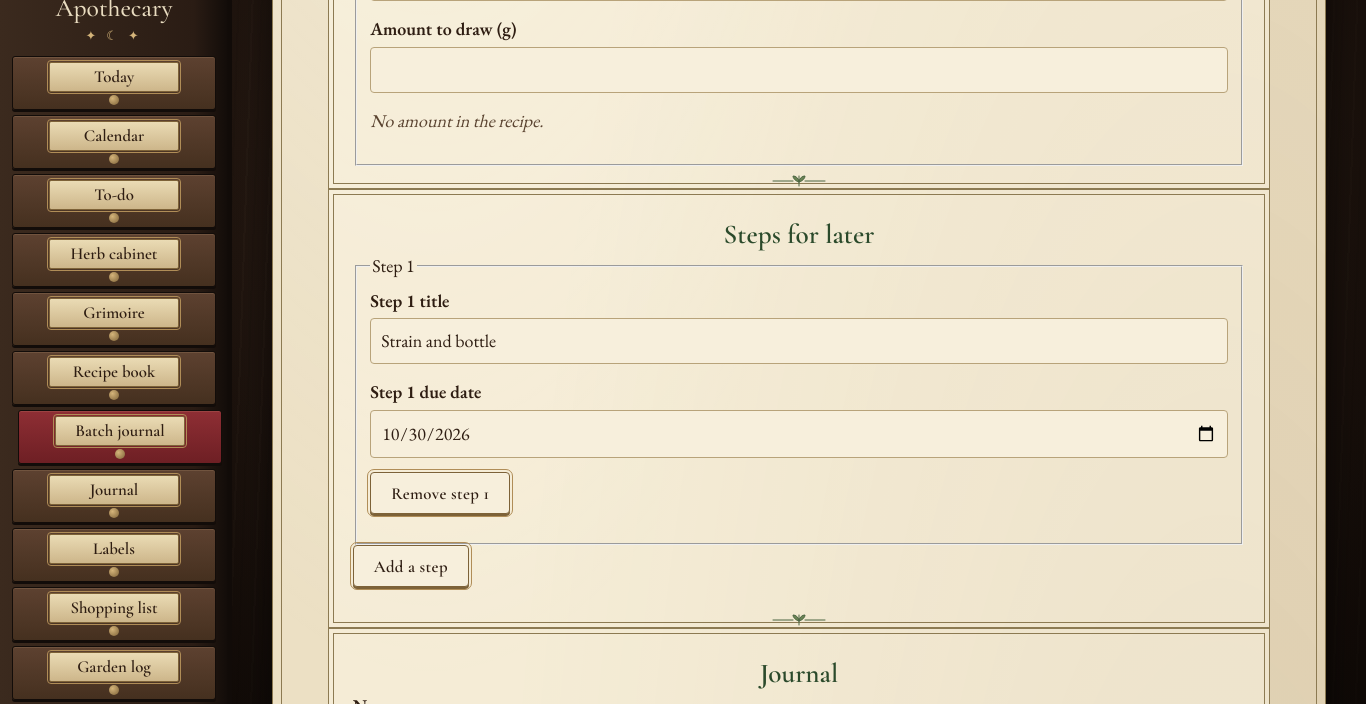
Test case: edits, adds and removes steps
(page scrolled)
Replace the text in the field labelled "Step 1 title" with "Strain it" at [799, 341], box [370,318,1228,364]
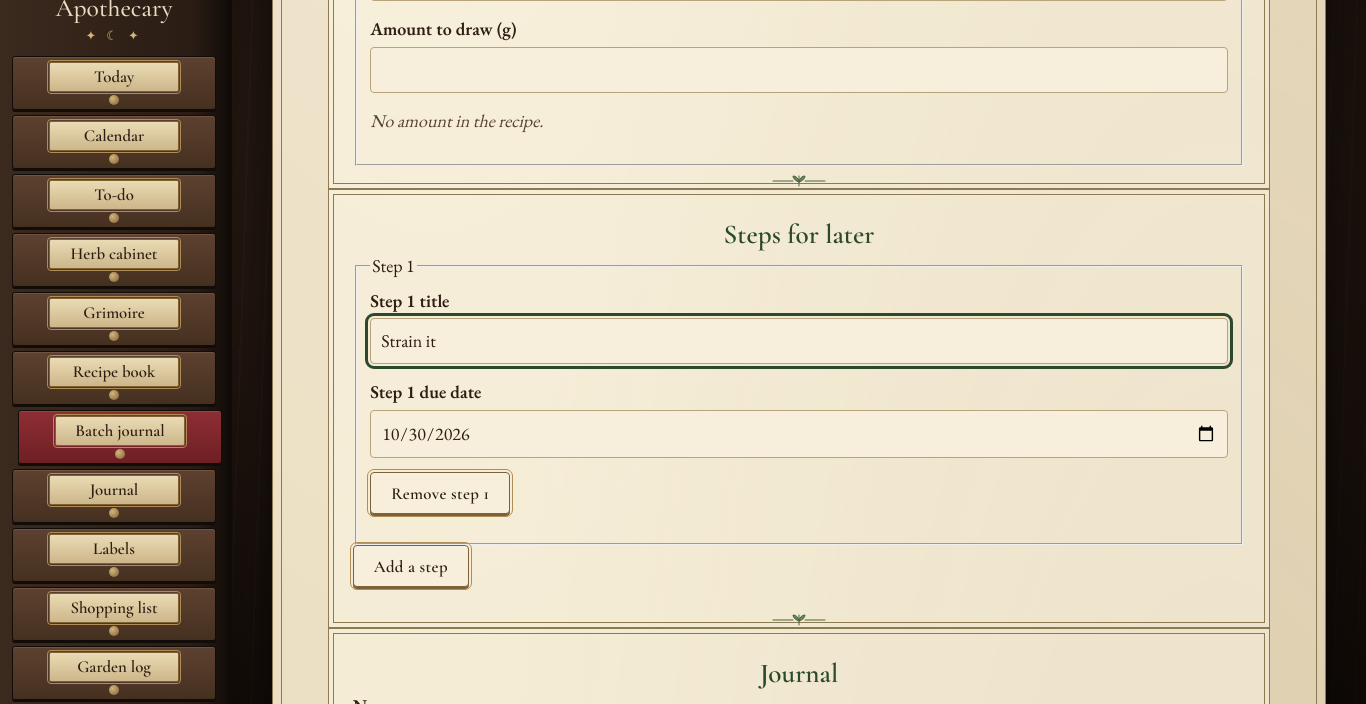
Click the button "Add a step".
click(411, 566)  # box [353,545,469,587]
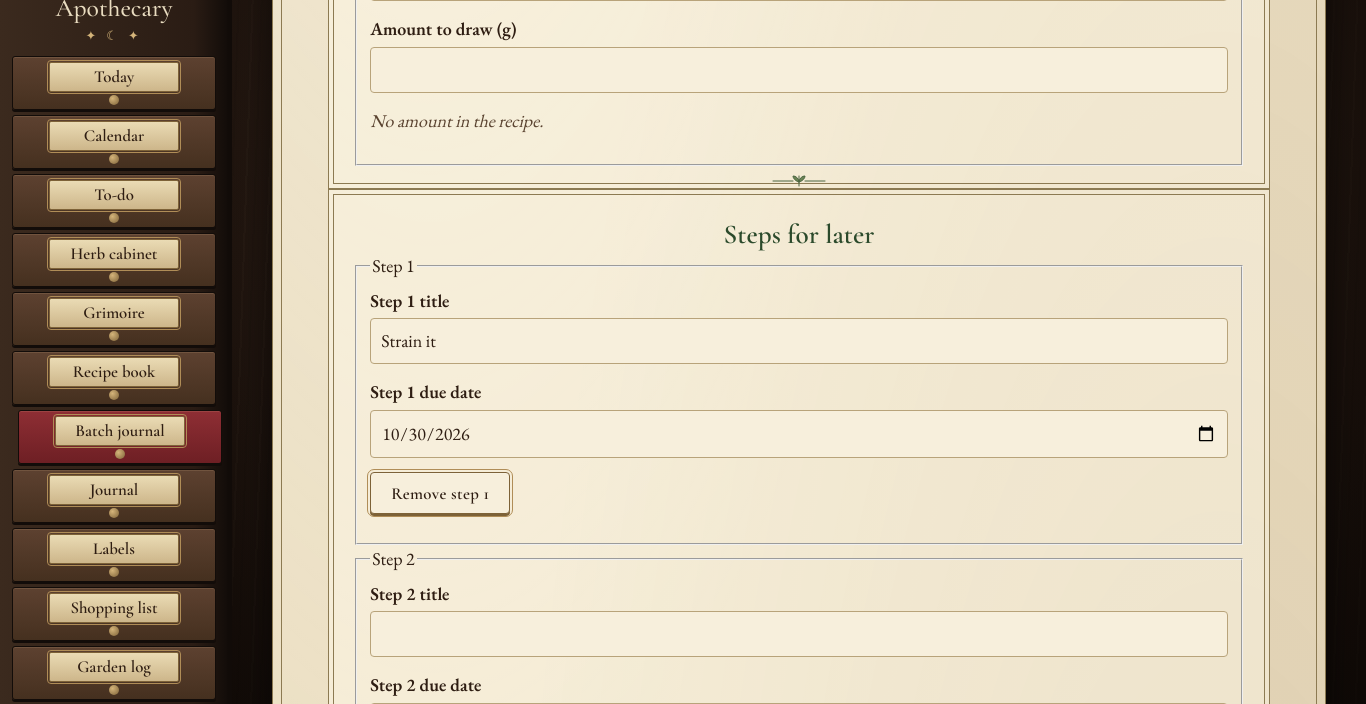
Type "Label it" into the field labelled "Step 2 title".
click(799, 634); type("Label it")  # box [370,611,1228,657]
(page scrolled)
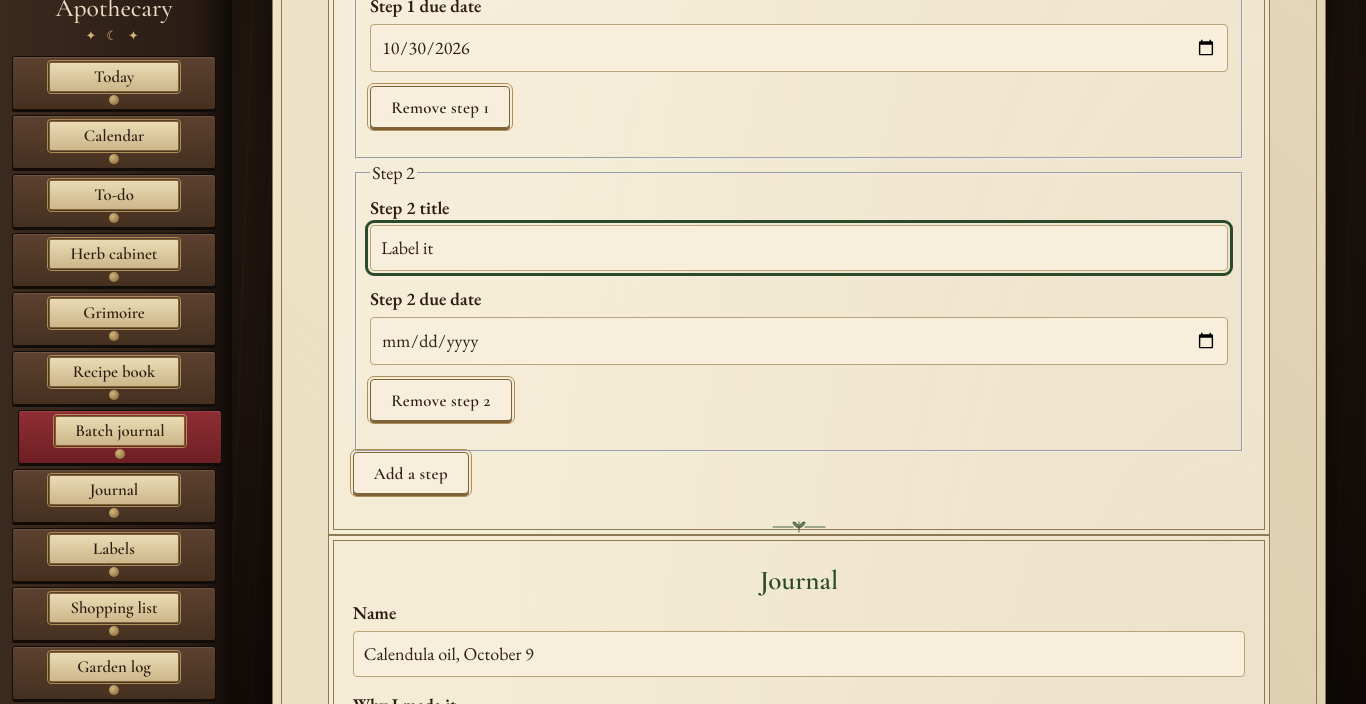
Type "2026-11-05" into the date field labelled "Step 2 due date".
click(799, 341); type("2026-11-05")  # box [370,317,1228,365]
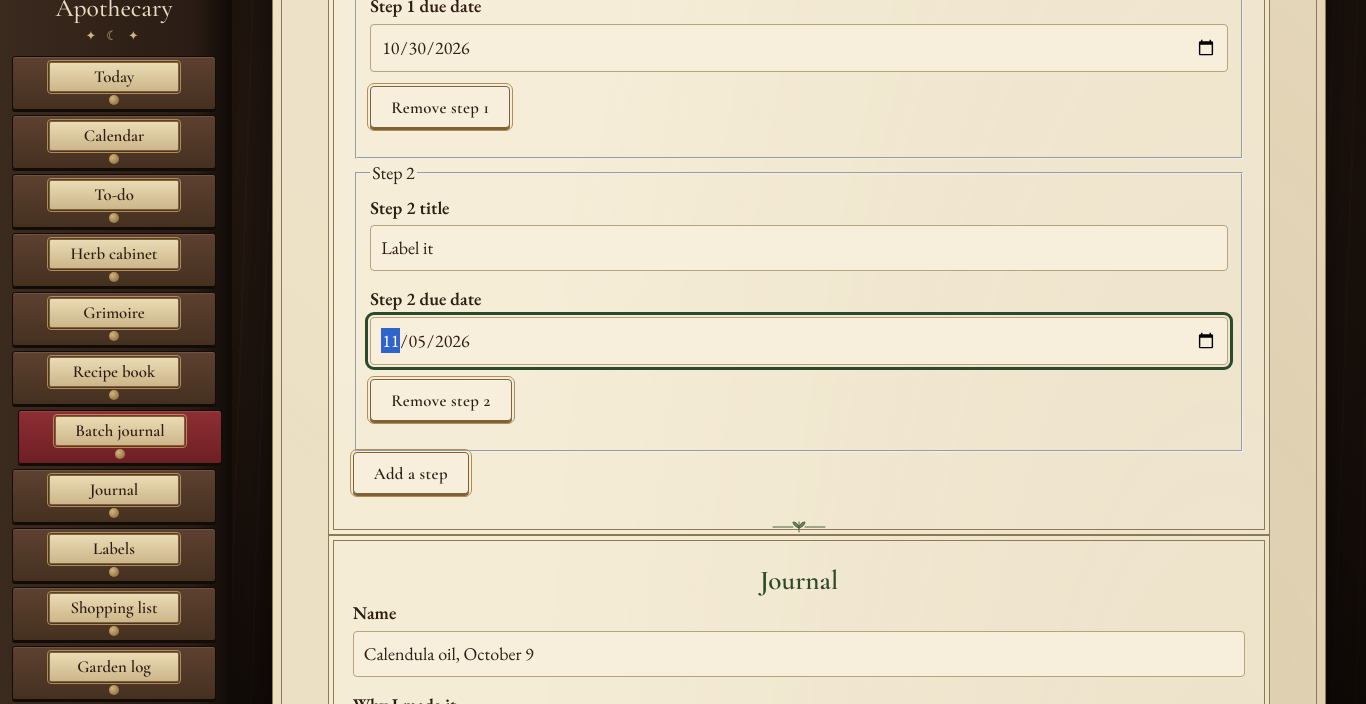
Click the button "Remove step 1".
click(440, 107)  # box [370,86,510,128]
(page scrolled)
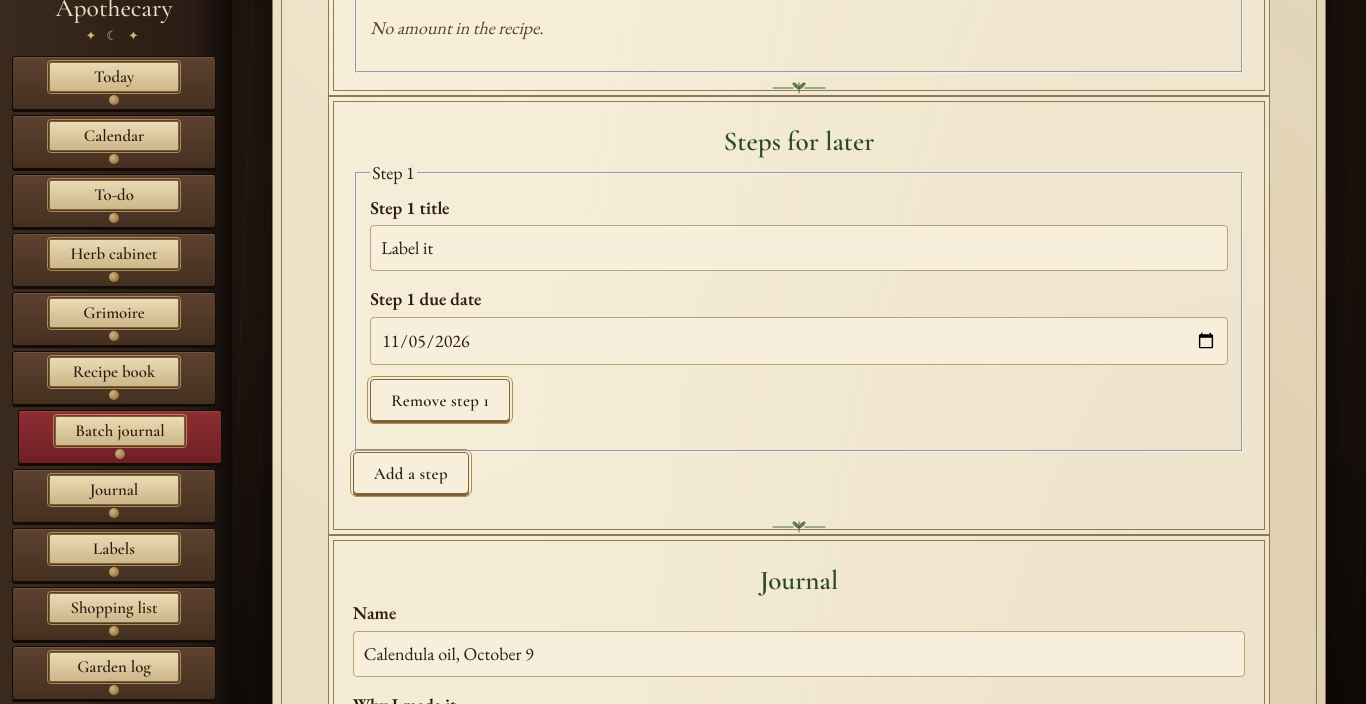
Check: the label labelled "Step 2 title" is gone
